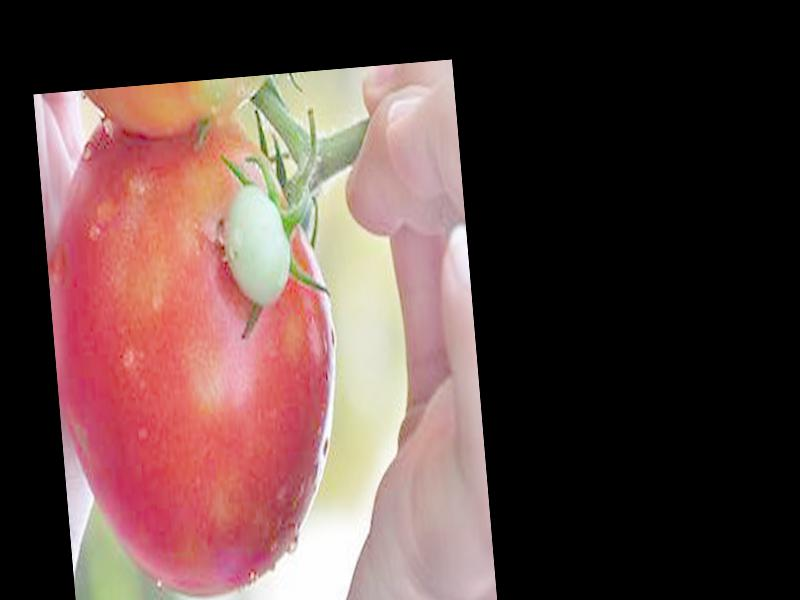Tomato: (35, 104, 355, 600)
